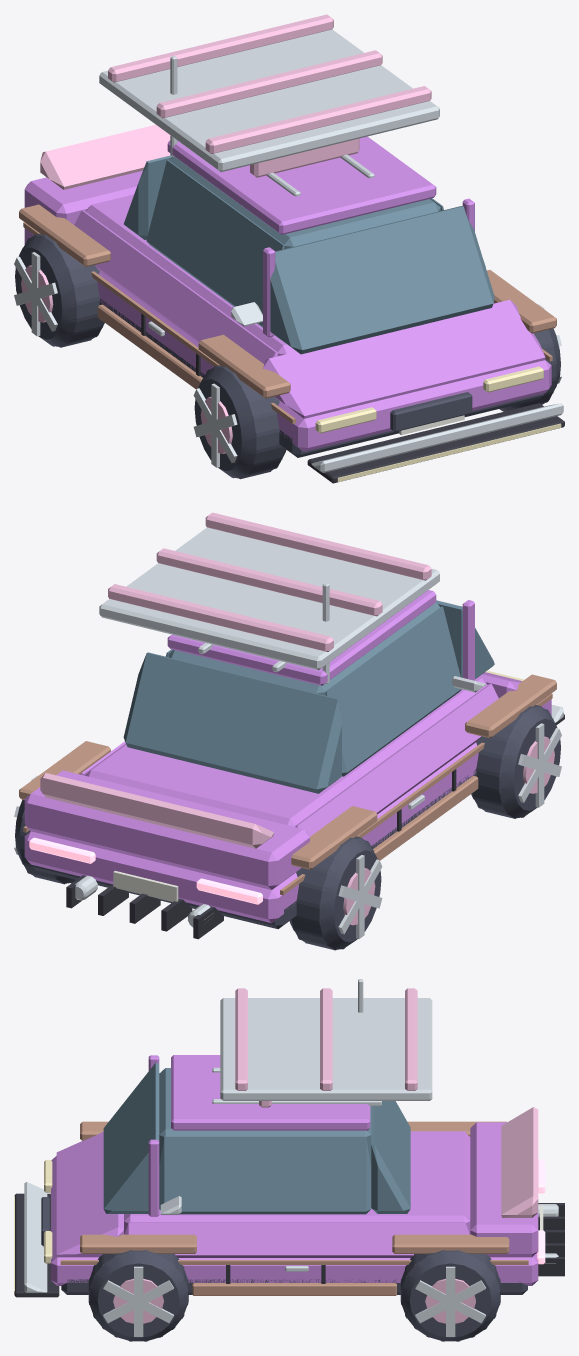
File: district_dash.fbx
The picture shows the model from 3 angles, top to bottom: view 1: azimuth 30°, elevation 25°; view 2: azimuth 150°, elevation 25°; view 3: azimuth 270°, elevation 25°; orthographic projection. The views are drawn at different scales.
Visible parts, largest first — view 1: Body, Glass, Accent2, Accent3, Accent, Wheel_FR, Wheel_RR, Trim, Trim2, Metal, Light, Light3 (+2 smaller); view 2: Body, Glass, Accent2, Accent3, Accent, Wheel_RR, Wheel_FR, Metal, Trim, Light2, Trim2, Accent4 (+2 smaller); view 3: Body, Glass, Accent2, Accent, Accent3, Wheel_RL, Wheel_FL, Metal, Trim, Metal2, Trim2, Light (+1 smaller).
Boxes of the visible parts, left/top/right/bottom form: Body: left=24, top=136, right=551, bottom=451; Glass: left=124, top=155, right=494, bottom=354; Accent2: left=99, top=29, right=563, bottom=472; Accent3: left=40, top=14, right=431, bottom=189; Accent: left=19, top=204, right=556, bottom=423; Wheel_FR: left=194, top=365, right=286, bottom=479; Wheel_RR: left=15, top=233, right=104, bottom=347; Trim: left=141, top=313, right=564, bottom=483; Trim2: left=99, top=298, right=544, bottom=457; Metal: left=14, top=252, right=561, bottom=467; Light: left=315, top=366, right=561, bottom=481; Light3: left=250, top=138, right=359, bottom=177; Body: left=24, top=590, right=551, bottom=923; Glass: left=123, top=600, right=494, bottom=793; Accent2: left=99, top=527, right=563, bottom=722; Accent3: left=40, top=512, right=431, bottom=848; Accent: left=19, top=674, right=556, bottom=895; Wheel_RR: left=289, top=836, right=381, bottom=950; Wheel_FR: left=471, top=705, right=560, bottom=818; Metal: left=14, top=723, right=561, bottom=938; Trim: left=66, top=714, right=564, bottom=939; Light2: left=29, top=837, right=262, bottom=904; Trim2: left=31, top=769, right=476, bottom=928; Accent4: left=113, top=871, right=178, bottom=901; Body: left=51, top=1055, right=538, bottom=1285; Glass: left=103, top=1062, right=410, bottom=1214; Accent2: left=24, top=979, right=432, bottom=1292; Accent: left=60, top=1121, right=528, bottom=1295; Accent3: left=235, top=988, right=538, bottom=1217; Wheel_RL: left=400, top=1250, right=500, bottom=1341; Wheel_FL: left=88, top=1250, right=188, bottom=1341; Metal: left=103, top=1204, right=558, bottom=1336; Trim: left=14, top=1193, right=564, bottom=1297; Metal2: left=113, top=1279, right=475, bottom=1323; Trim2: left=41, top=1197, right=527, bottom=1294; Light: left=14, top=1160, right=52, bottom=1294.
Bounding box in the file's own units: 3.1 × 2.77 × 5.2.
